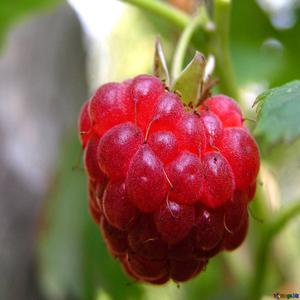raspb: (70, 65, 264, 285)
